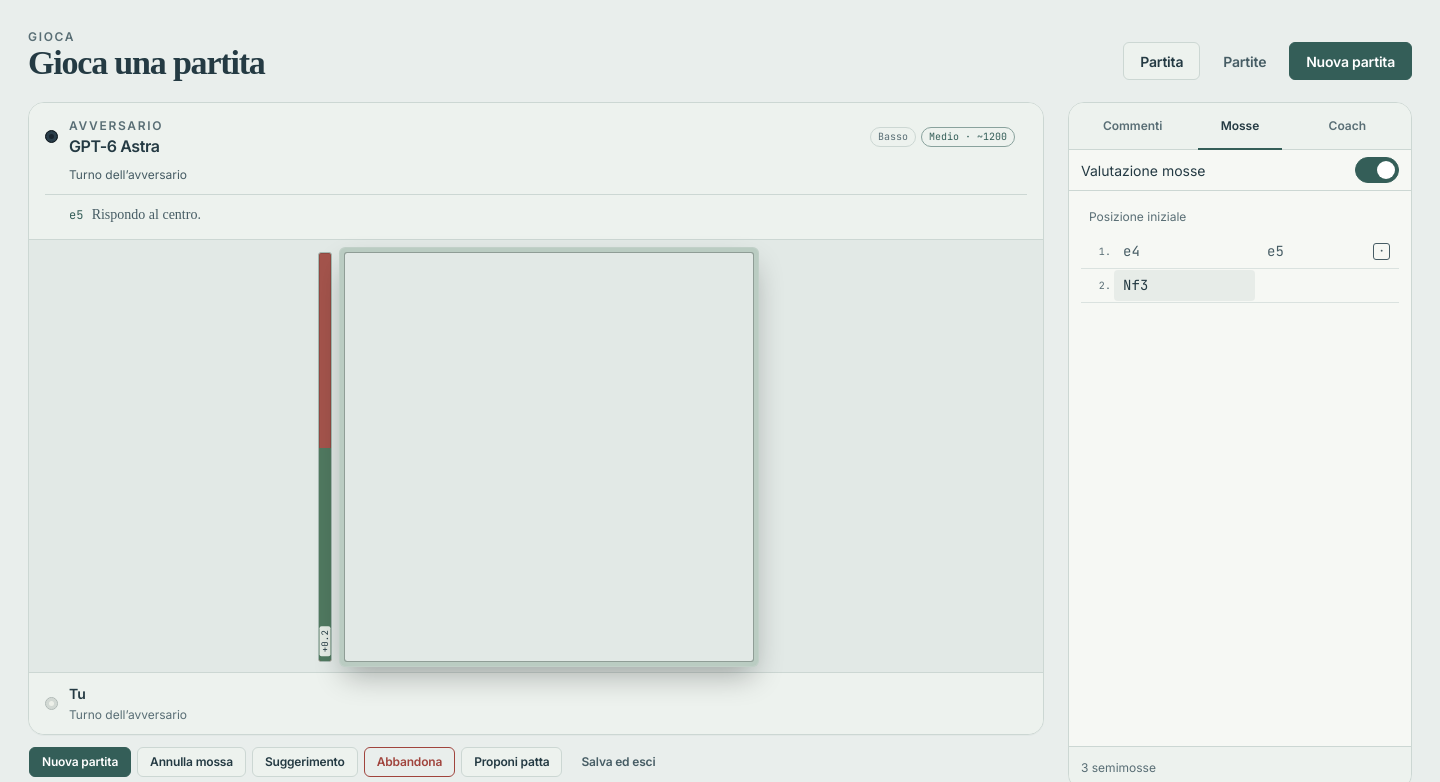
it: PlayScreen › shows live quality consistently in the move list and comments
Step 1. Click the switch named "Valutazione mosse" → [1377, 170], box [1355,157,1399,183]
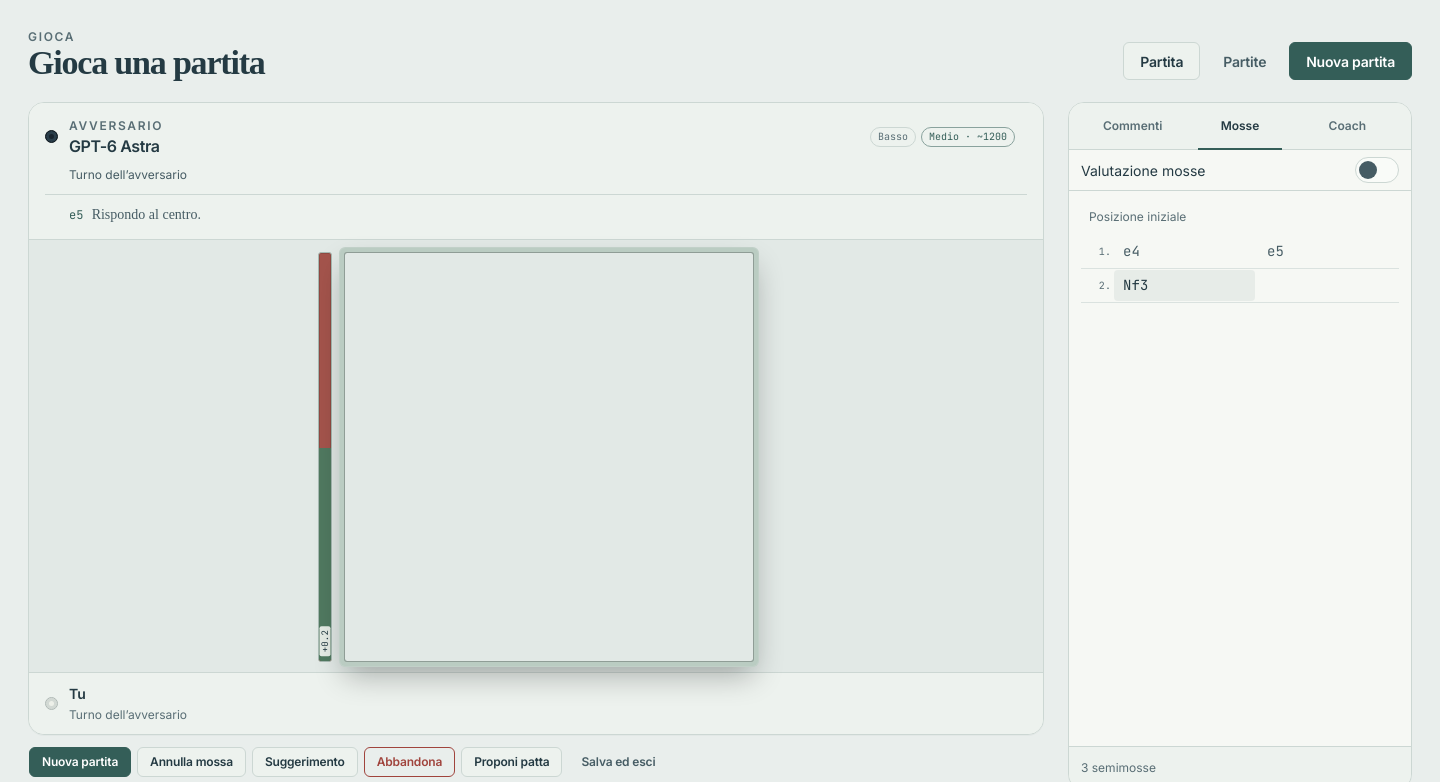
Step 2. Click the switch named "Valutazione mosse" → [1377, 170], box [1355,157,1399,183]
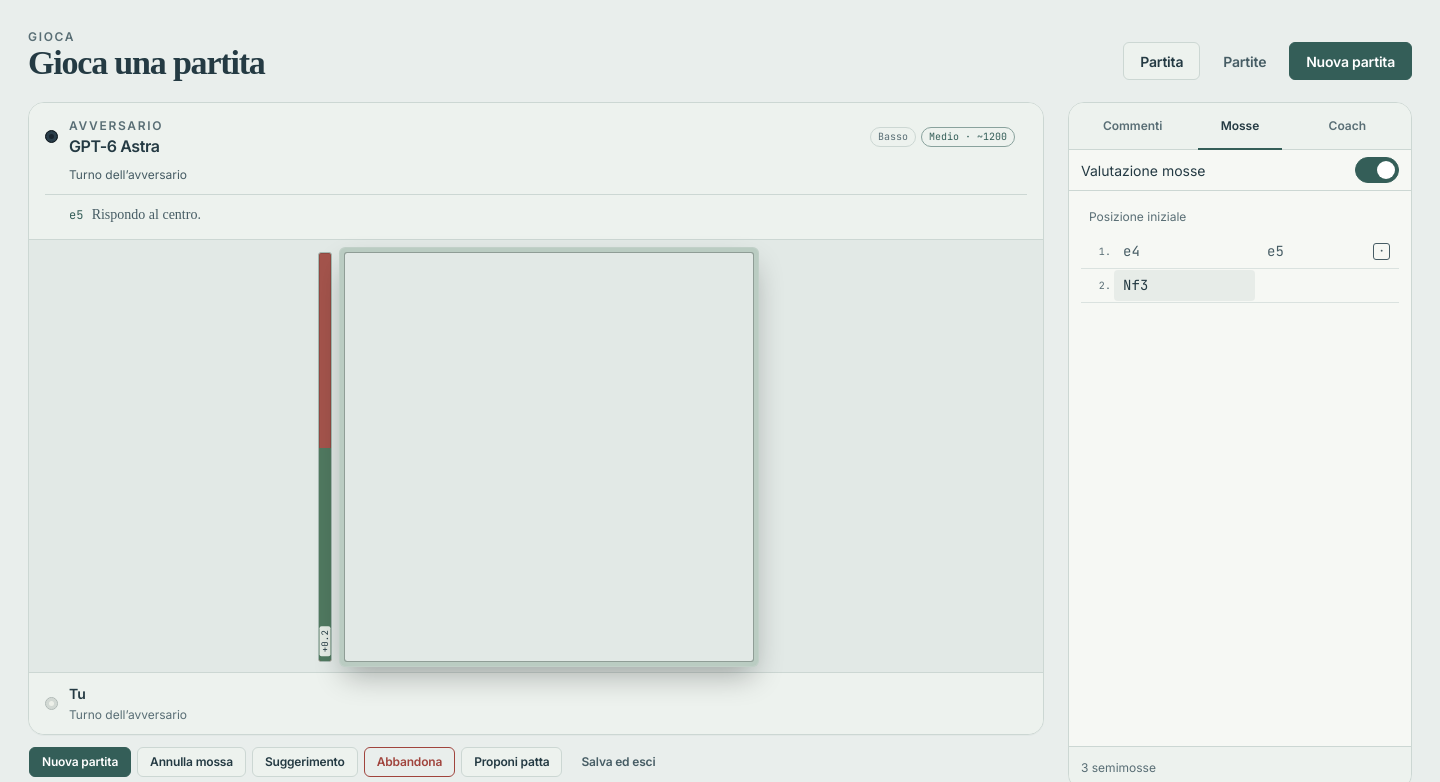
Step 3. Click the tab "Commenti" → [1133, 126], box [1079,103,1186,149]
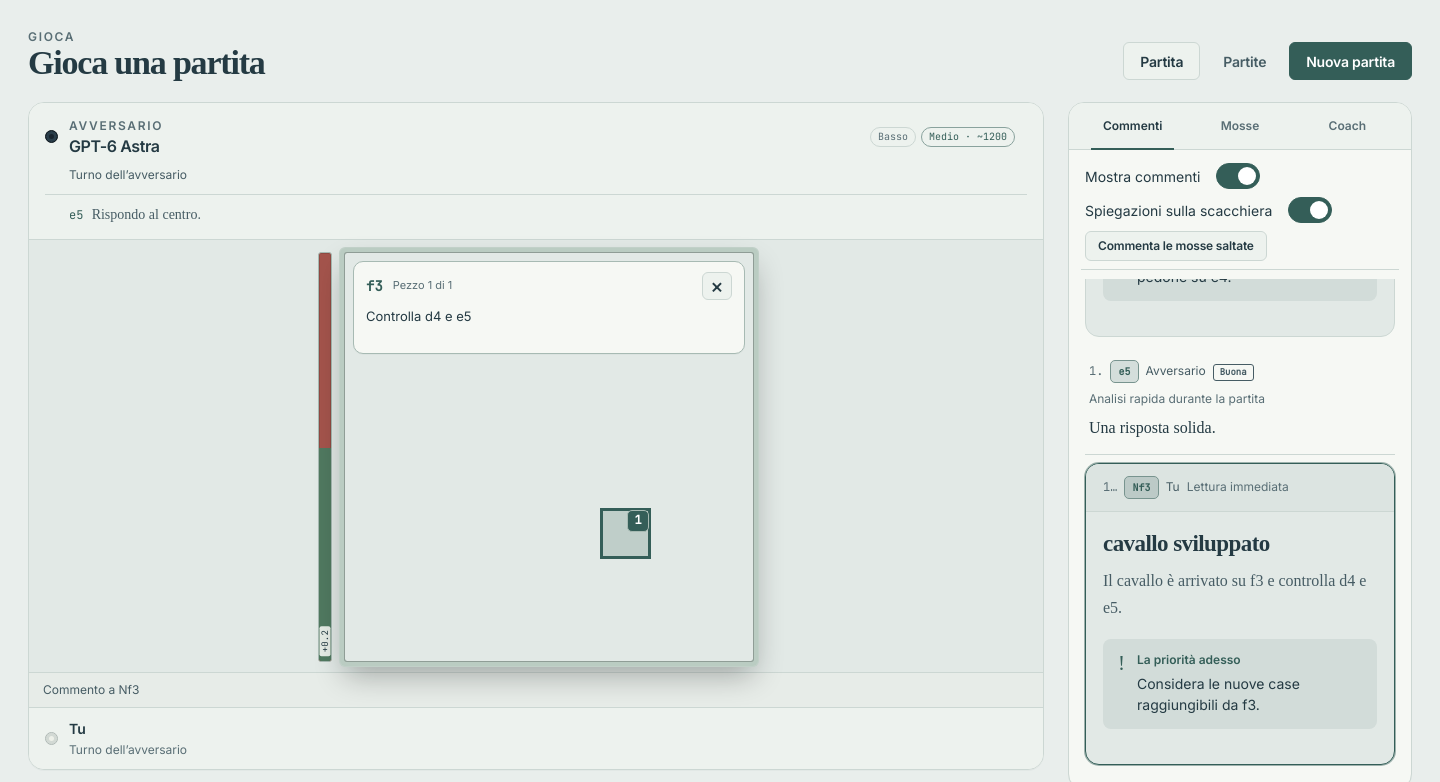
Result: the text named "Buona · valutazione rapida" reads "Buona" at [1220,366,1247,378]
